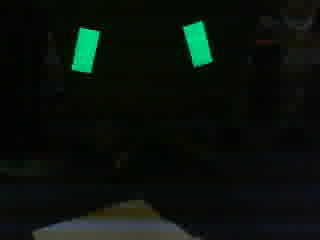target: (67, 18, 215, 74)
